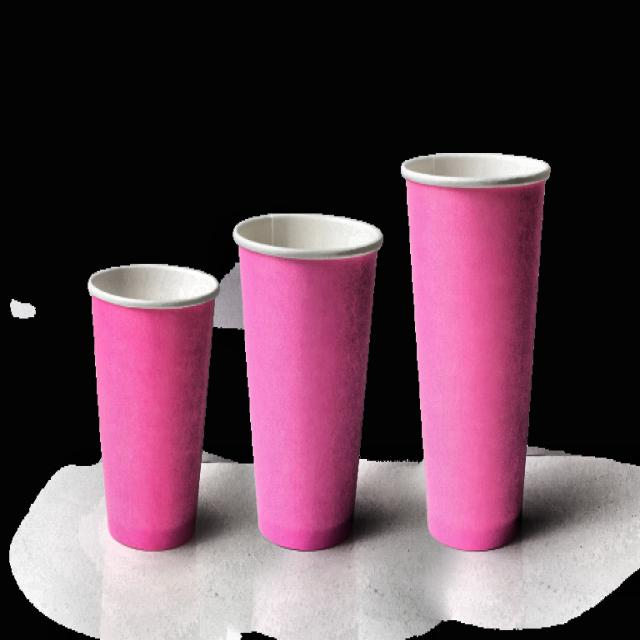Cup: (402, 141, 548, 546), (236, 209, 383, 557), (83, 254, 225, 558)
